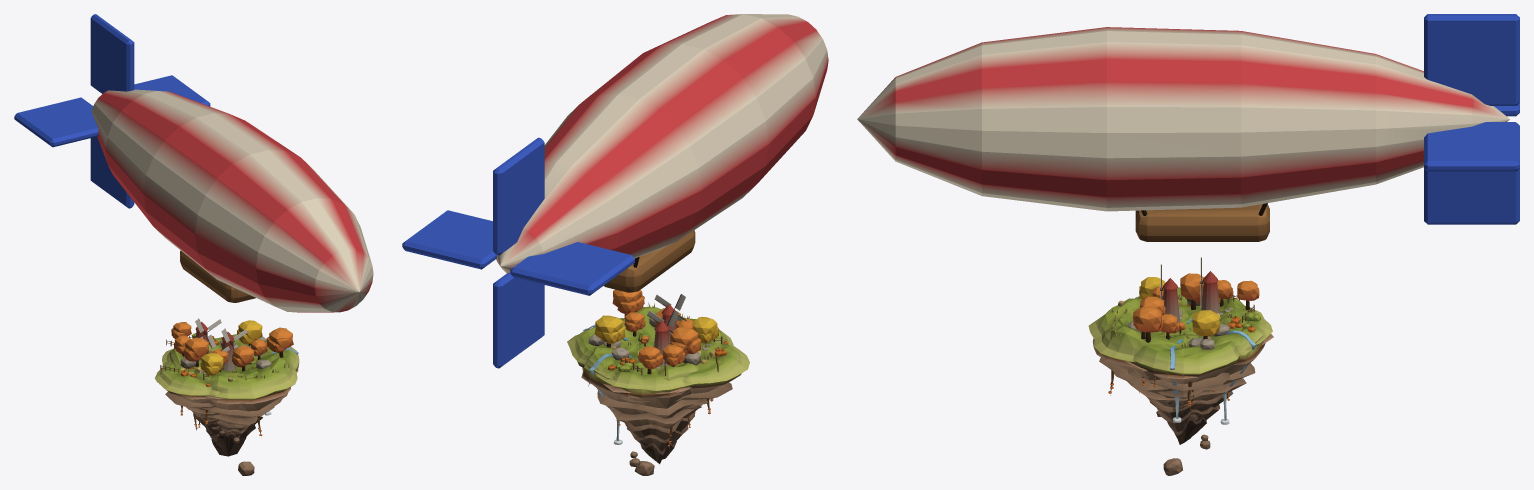
The model's file is isle-grove-Dgkvs7hX.glb.
The picture shows the model from 3 angles, left to right: view 1: azimuth 30°, elevation 25°; view 2: azimuth 150°, elevation 25°; view 3: azimuth 270°, elevation 25°; orthographic projection. The views are drawn at different scales.
Visible parts, largest first — view 1: far, isle_2, isle_1, isle_0; view 2: far, isle_2, isle_1, isle_0; view 3: far, isle_2, isle_1, isle_0.
Boxes of the visible parts, x1=… form: far: x1=14, y1=14, x2=373, y2=312; isle_2: x1=166, y1=318, x2=297, y2=475; isle_1: x1=155, y1=327, x2=299, y2=441; isle_0: x1=162, y1=322, x2=298, y2=443; far: x1=402, y1=14, x2=828, y2=368; isle_2: x1=583, y1=291, x2=733, y2=475; isle_1: x1=567, y1=289, x2=749, y2=425; isle_0: x1=595, y1=317, x2=733, y2=443; far: x1=857, y1=14, x2=1519, y2=241; isle_2: x1=1088, y1=257, x2=1265, y2=475; isle_1: x1=1118, y1=264, x2=1242, y2=422; isle_0: x1=1101, y1=277, x2=1273, y2=416.
Bounding box in the file's own units: 120 × 259 × 345.
